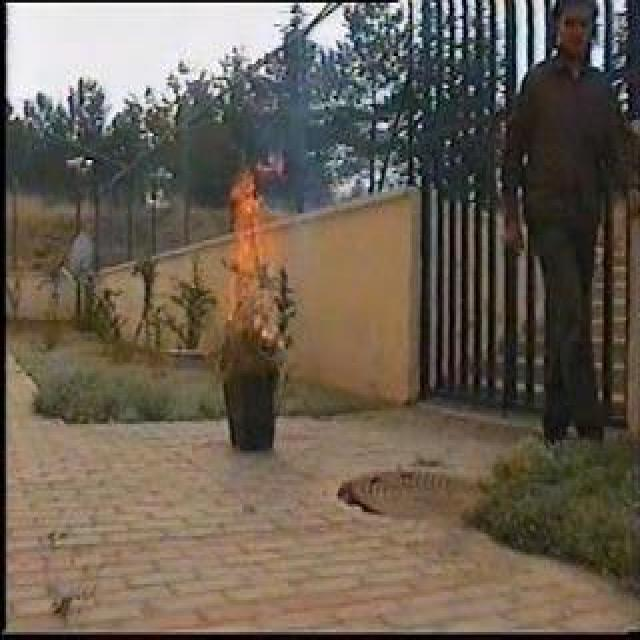fire: (218, 159, 274, 316)
